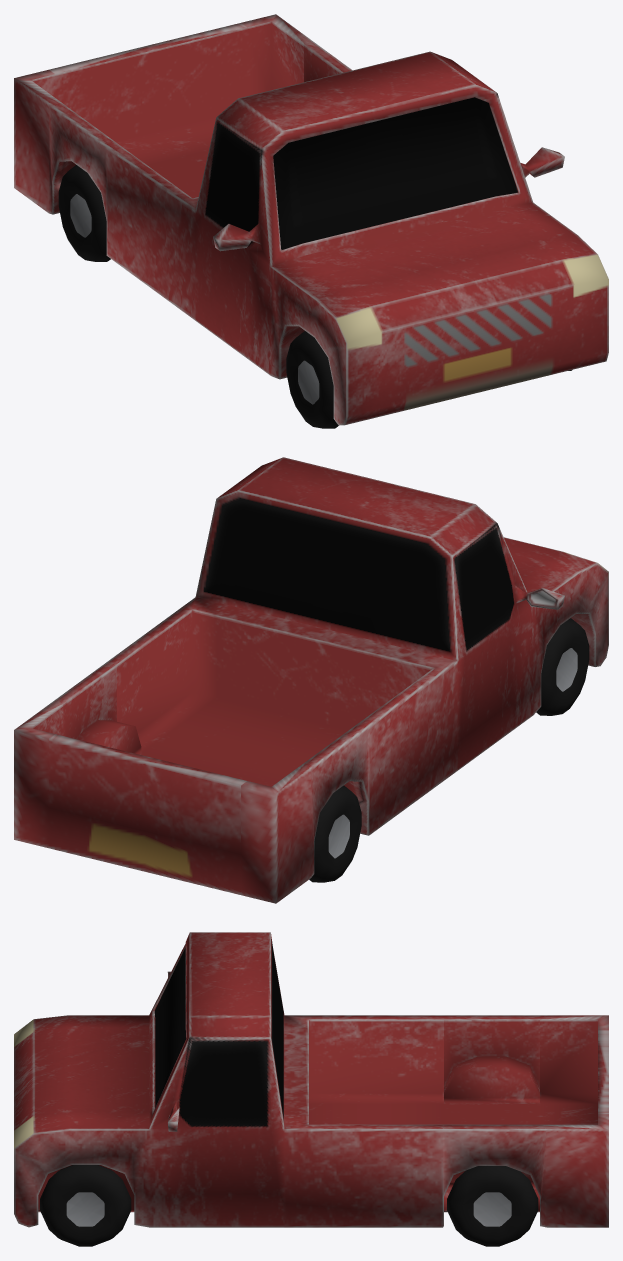
The model's file is Truck.fbx.
3 views of the same model, one above another, from view 1: azimuth 30°, elevation 25°; view 2: azimuth 150°, elevation 25°; view 3: azimuth 270°, elevation 25° (orthographic). The views are drawn at different scales.
Parts seen in each view (by area): view 1: Truck; view 2: Truck; view 3: Truck.
Part boxes in pixels (bbox=[...]): Truck: bbox=[14, 14, 608, 428]; Truck: bbox=[14, 457, 608, 903]; Truck: bbox=[14, 932, 608, 1246].
Bounding box in the file's own units: 264 × 180 × 440.
